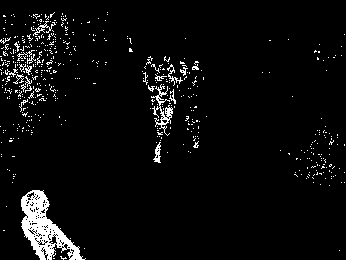person: (19, 189, 84, 260), (151, 79, 174, 164), (143, 55, 160, 91), (160, 54, 174, 87)
